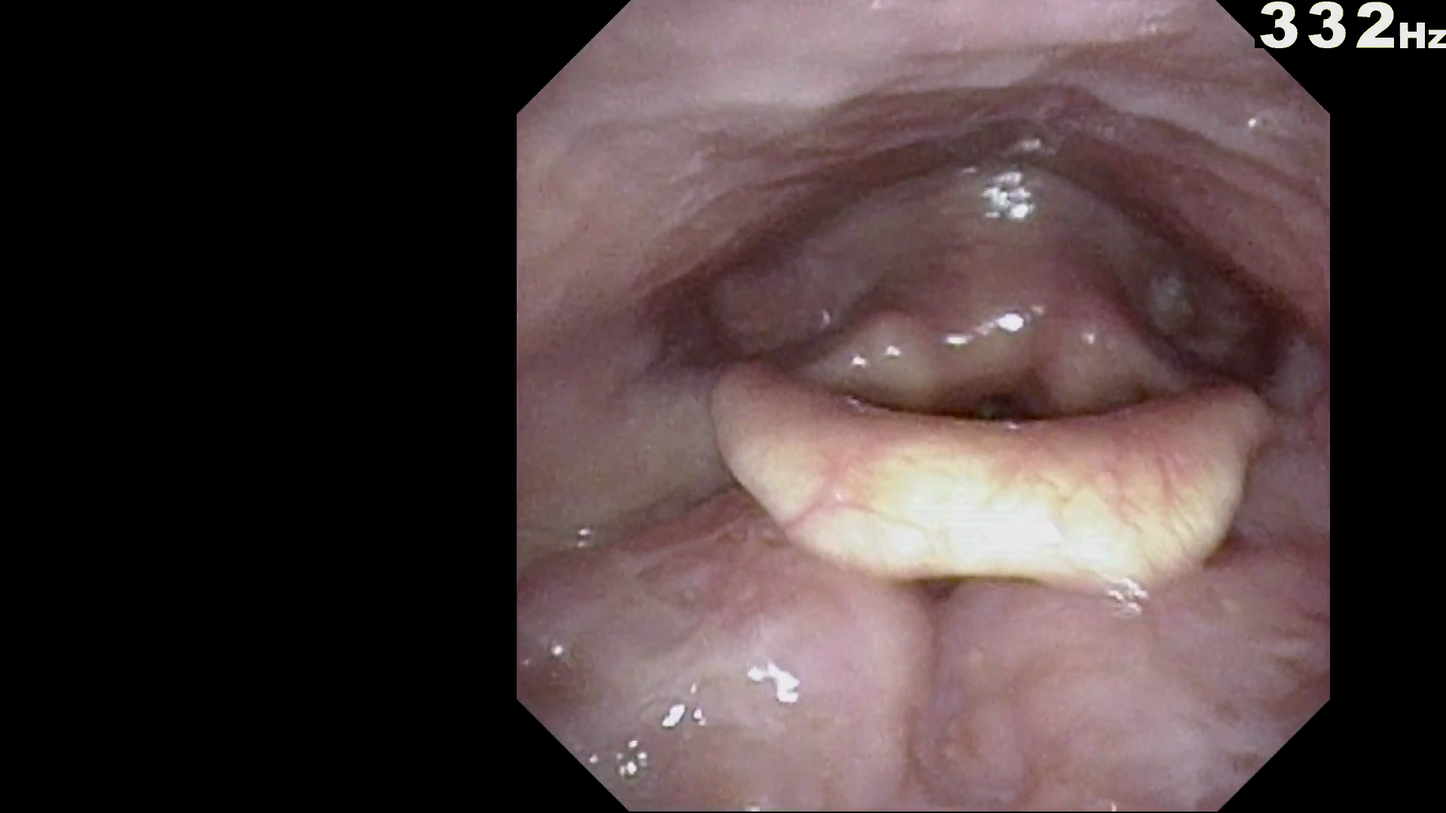epiglottis: (693, 358, 1296, 597)
trachea: (938, 325, 1085, 479)
